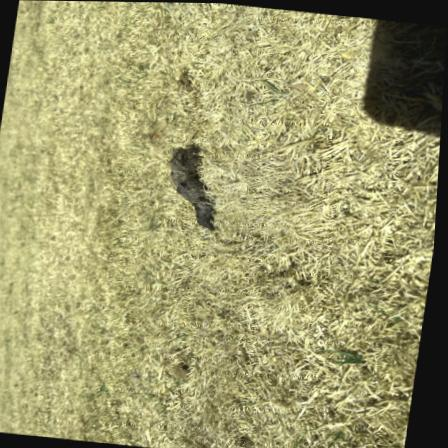dog-poop: (158, 123, 234, 237)
